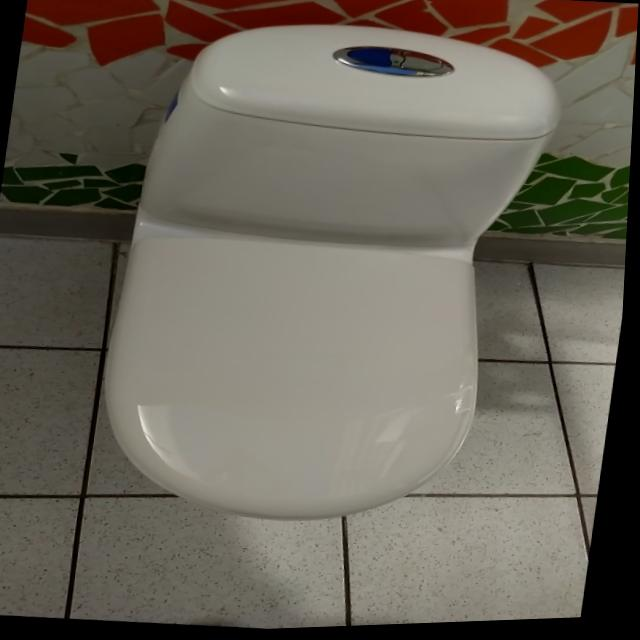toilet: (89, 4, 575, 548)
